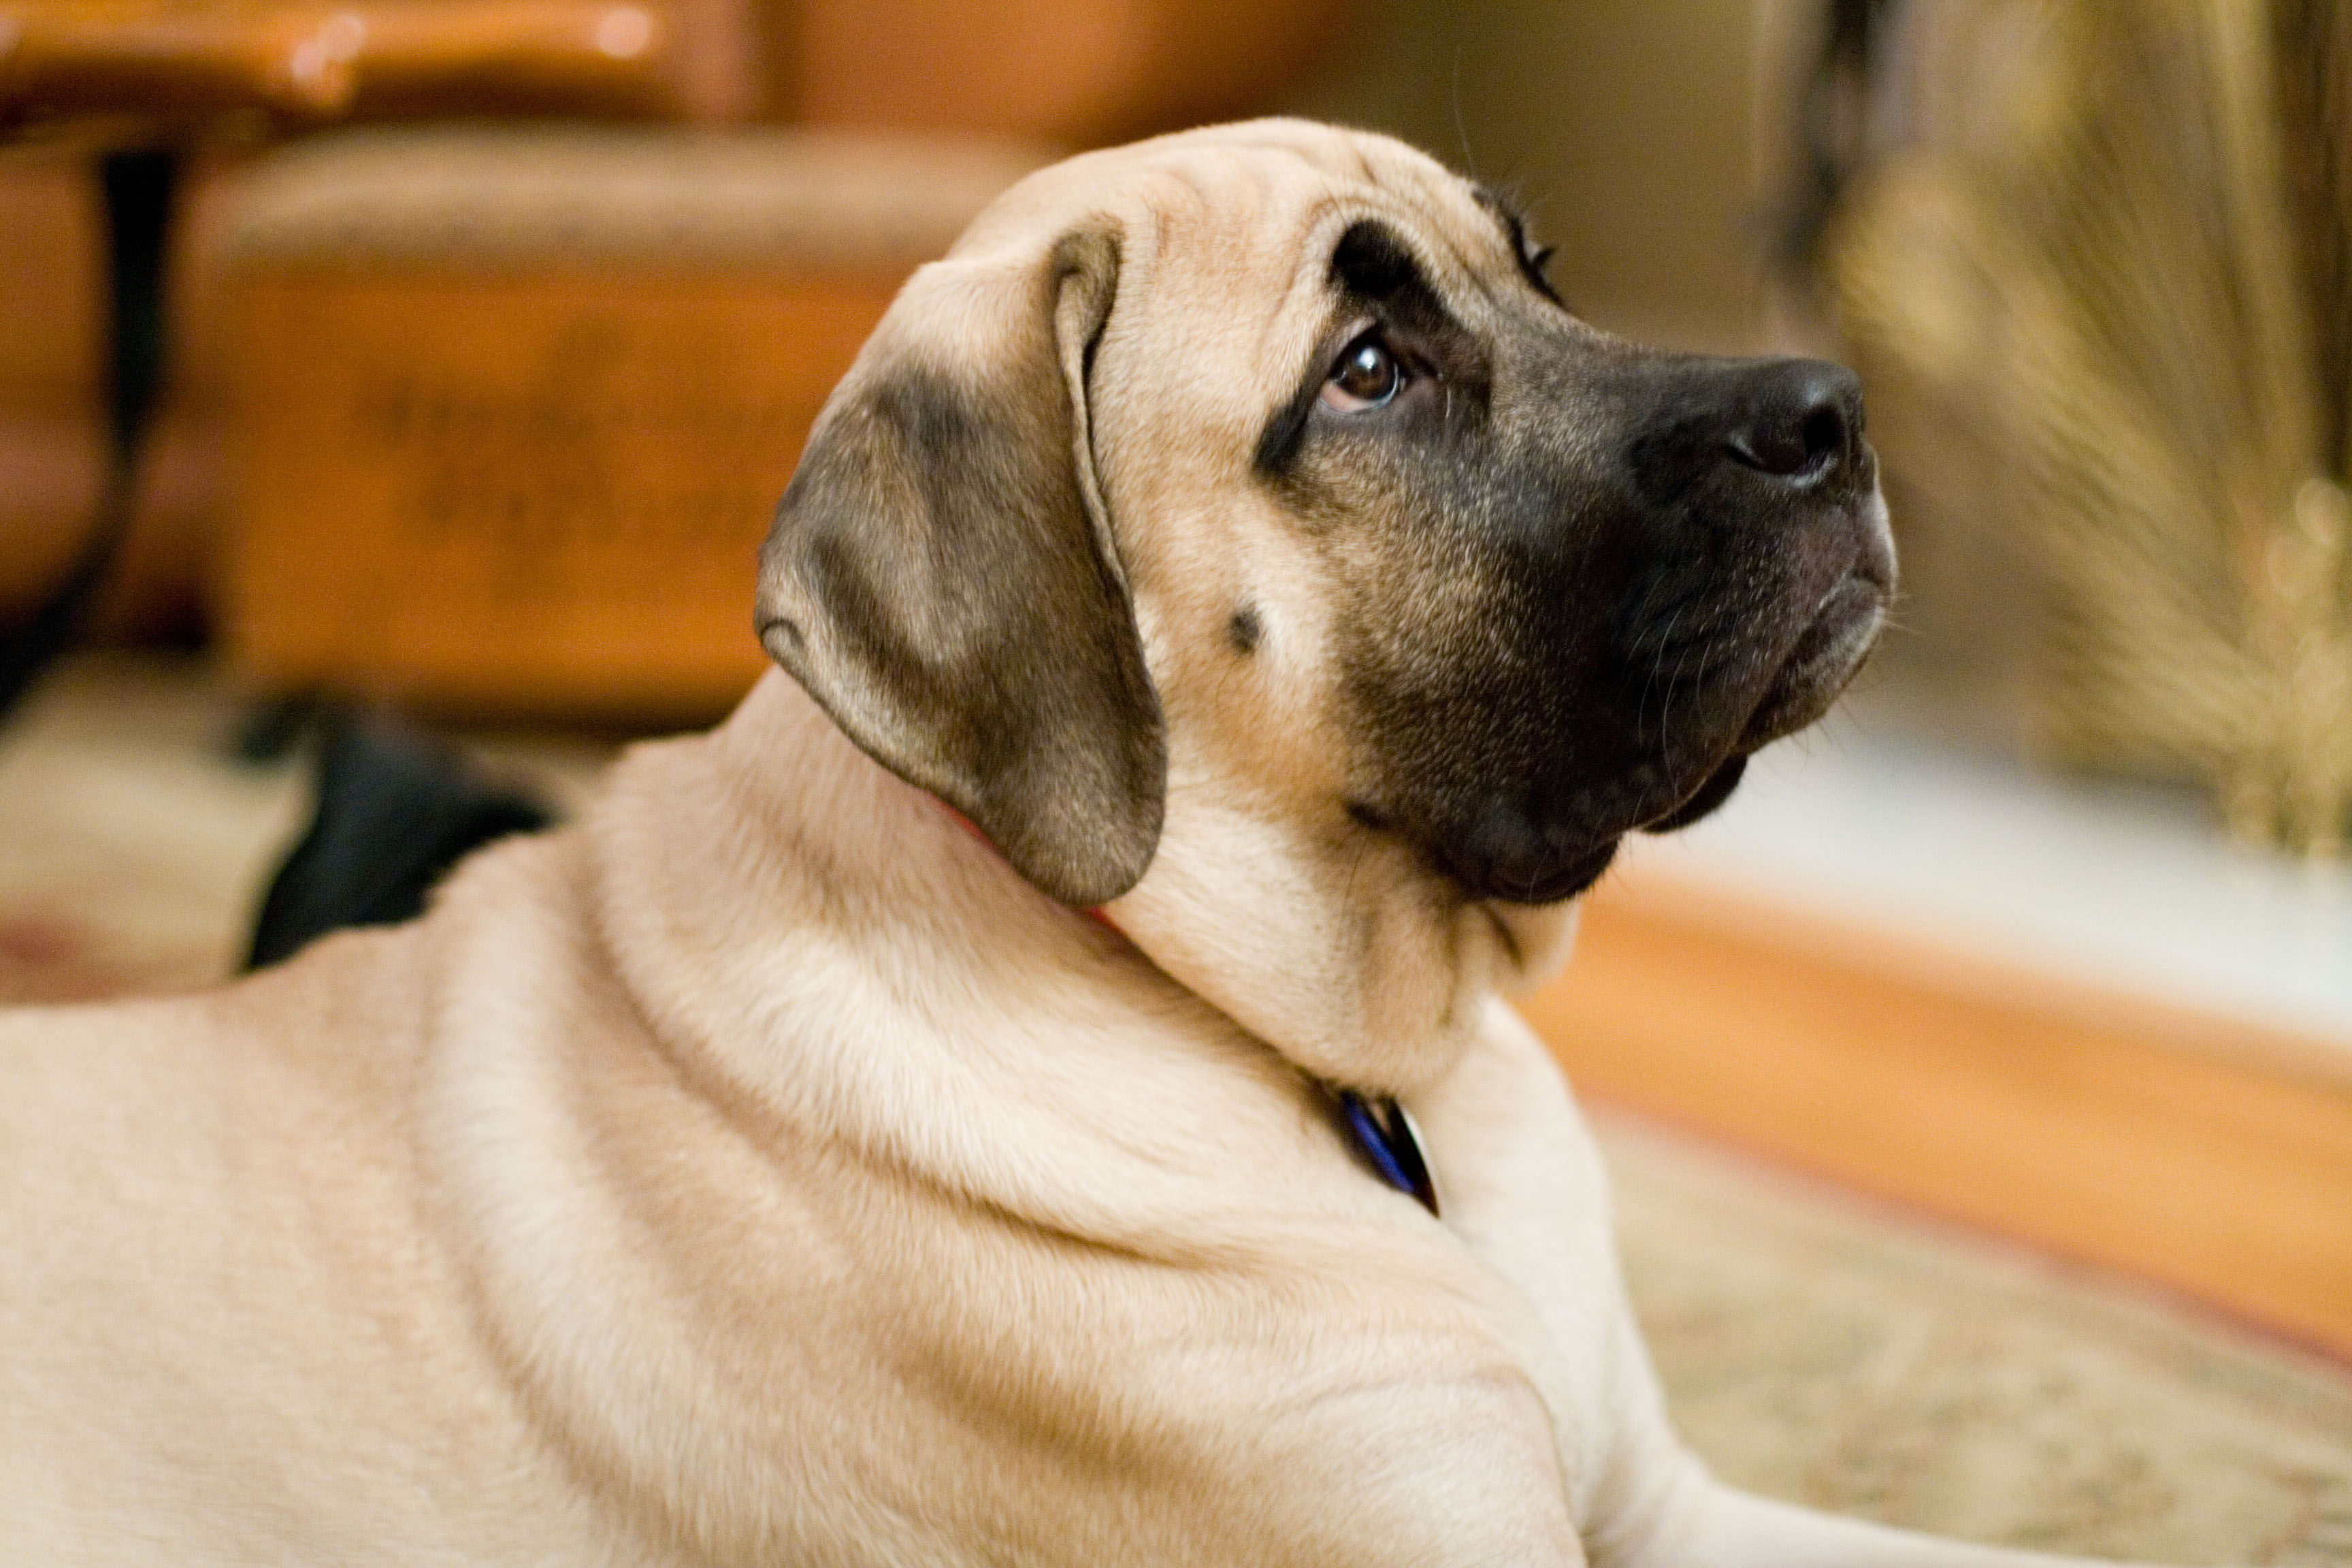mastiff: (0, 114, 2184, 1568)
